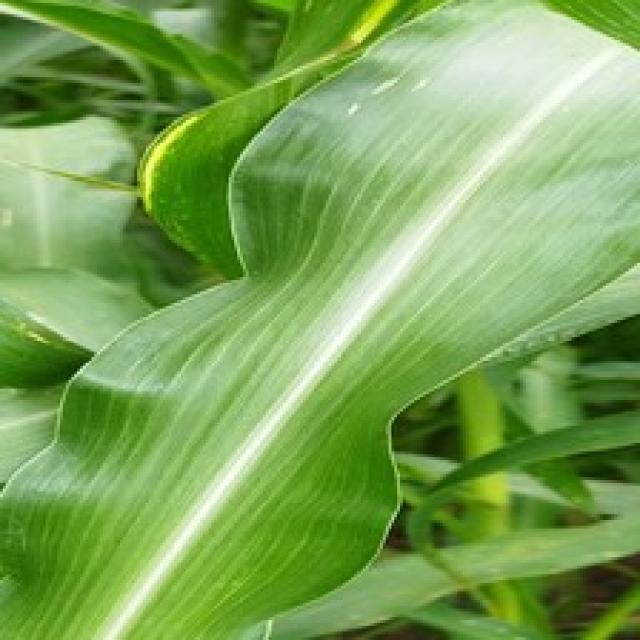Corn: (0, 0, 637, 637), (134, 0, 637, 280)
